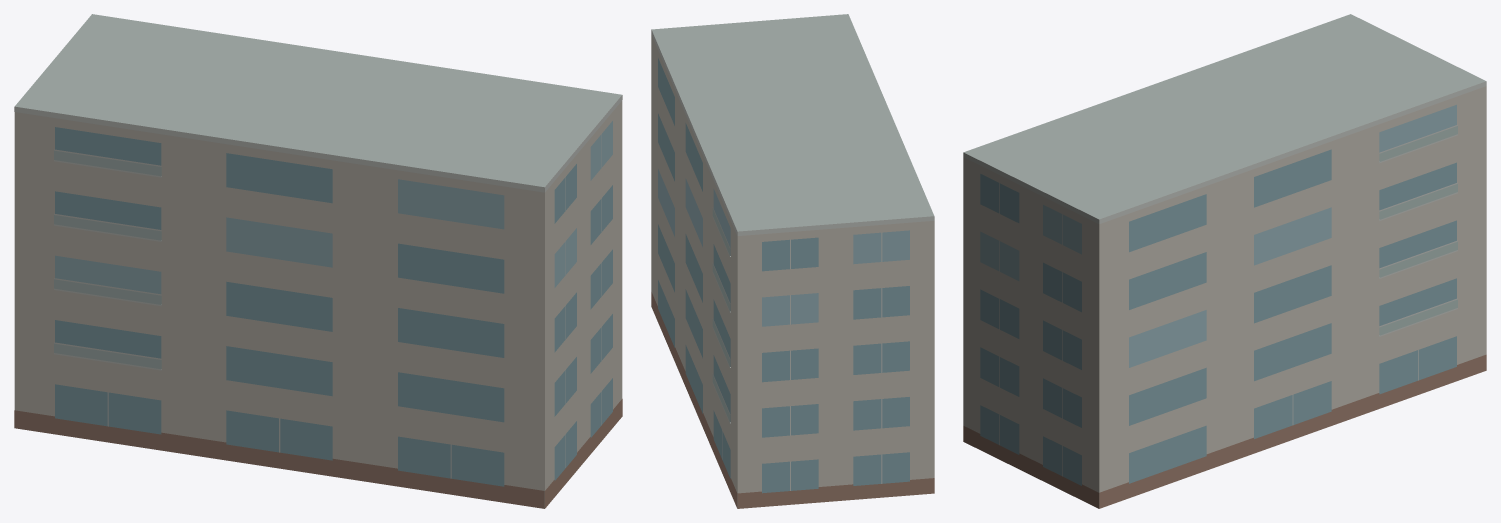
The model's file is survey-upis-32996815.glb.
The picture shows the model from 3 angles, left to right: view 1: azimuth 30°, elevation 25°; view 2: azimuth 150°, elevation 25°; view 3: azimuth 270°, elevation 25°; orthographic projection. The views are drawn at different scales.
Visible parts, largest first — view 1: survey-upis-32996815.tmp; view 2: survey-upis-32996815.tmp; view 3: survey-upis-32996815.tmp.
Part boxes in pixels (x1=…): survey-upis-32996815.tmp: x1=14, y1=14, x2=622, y2=508; survey-upis-32996815.tmp: x1=651, y1=14, x2=934, y2=508; survey-upis-32996815.tmp: x1=963, y1=14, x2=1486, y2=508.
Bounding box in the file's own units: 22.44 × 14.73 × 24.14.
